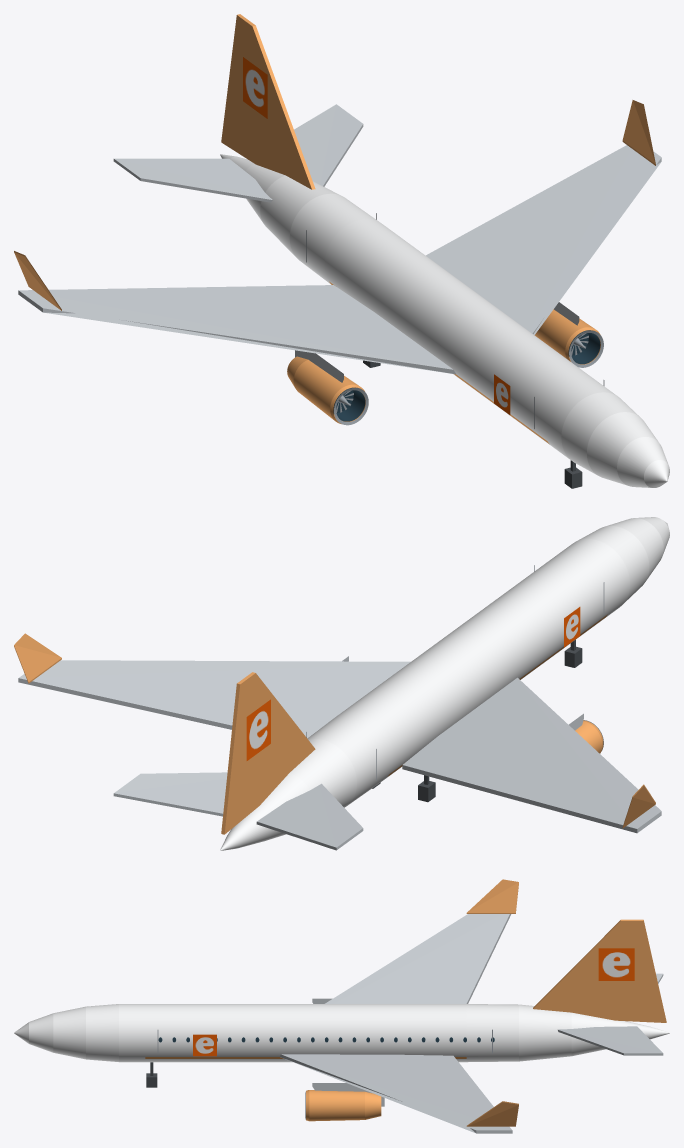
Rendered from a321-EZY-v3.gltf.
3 views of the same model, one above another, from view 1: azimuth 30°, elevation 25°; view 2: azimuth 150°, elevation 25°; view 3: azimuth 270°, elevation 25° (orthographic). The views are drawn at different scales.
Parts seen in each view (by area): view 1: object 1; view 2: object 1, Gear; view 3: object 1.
Part boxes in pixels (x1=…): object 1: x1=14, y1=14, x2=669, y2=487; object 1: x1=14, y1=517, x2=669, y2=850; Gear: x1=372, y1=640, x2=582, y2=802; object 1: x1=14, y1=879, x2=669, y2=1133.
Bounding box in the file's own units: 36 × 12.52 × 45.
8 materials, 1 textured.
